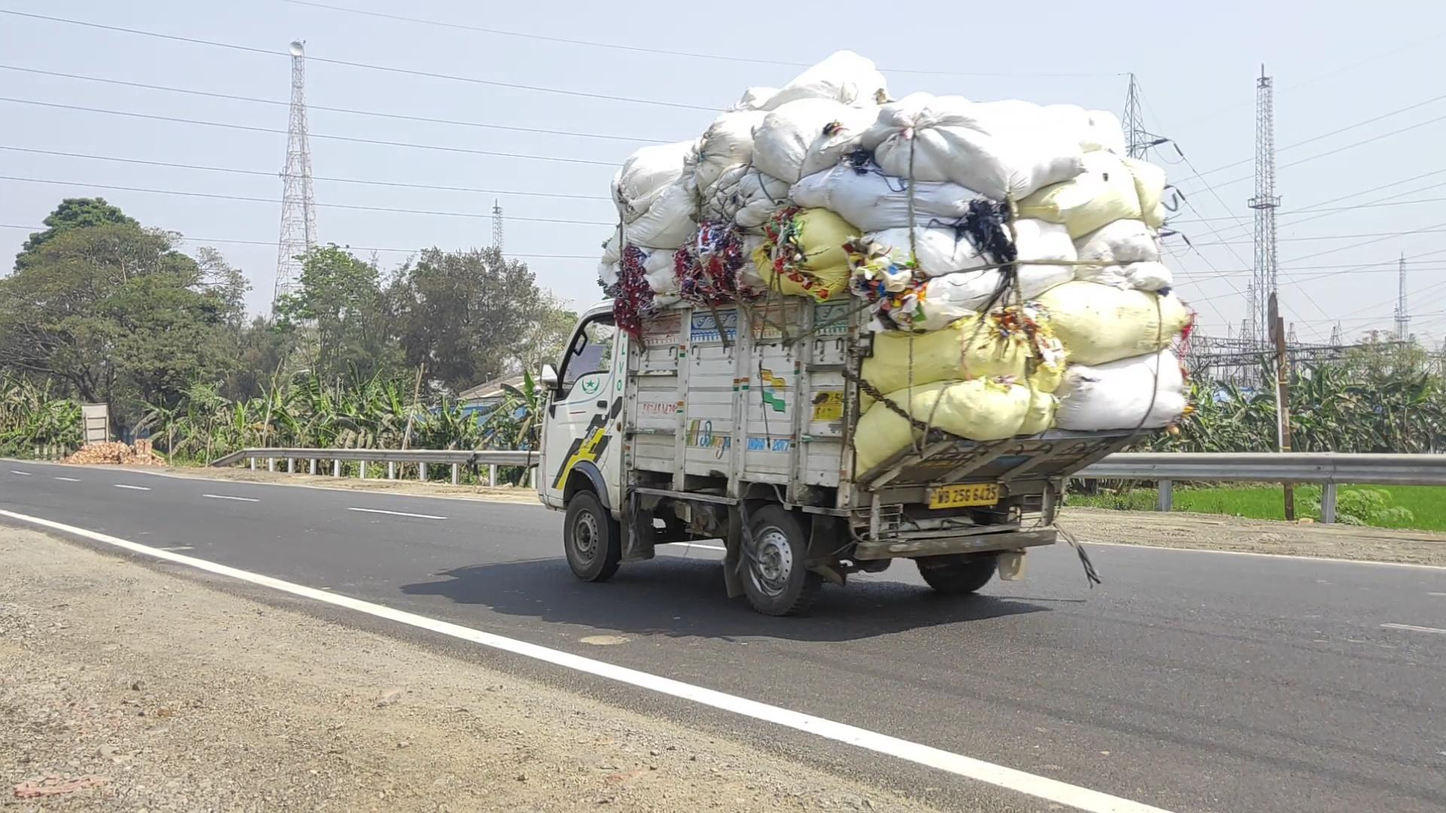van: (526, 77, 1193, 616)
